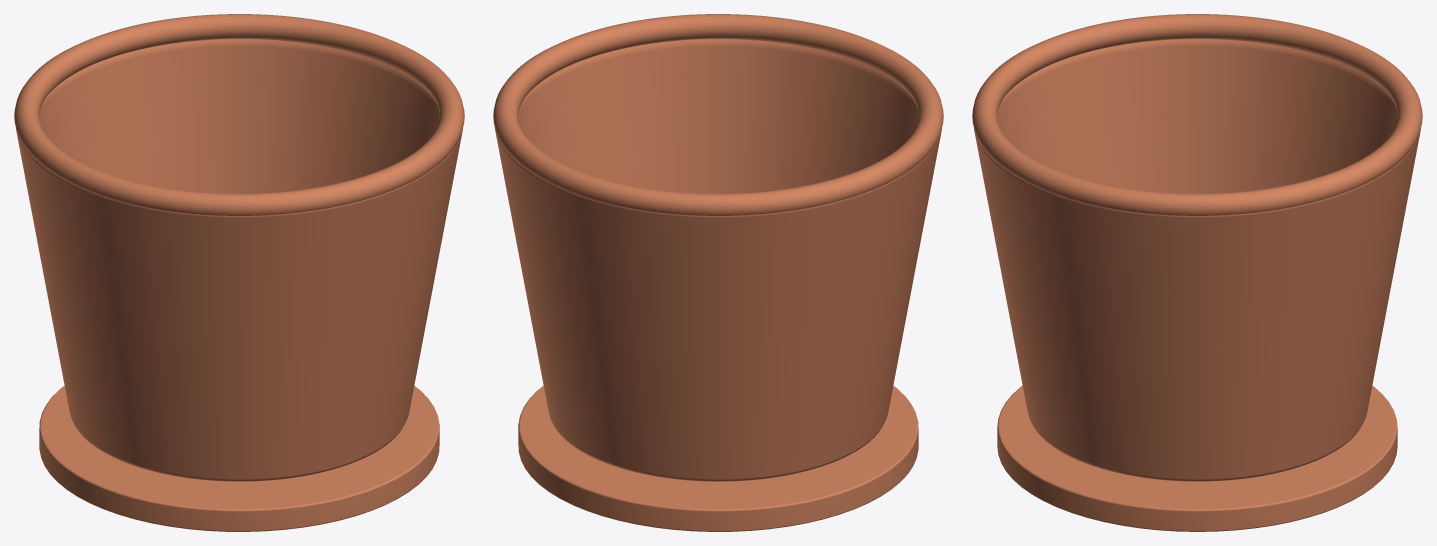
The model's file is empty_pot.glb.
3 views of the same model, side by side, from view 1: azimuth 30°, elevation 25°; view 2: azimuth 150°, elevation 25°; view 3: azimuth 270°, elevation 25° (orthographic).
Parts seen in each view (by area): view 1: SM_Unterteller; view 2: SM_Unterteller; view 3: SM_Unterteller.
Part boxes in pixels (bbox=[...]): SM_Unterteller: bbox=[14, 14, 464, 531]; SM_Unterteller: bbox=[493, 14, 943, 531]; SM_Unterteller: bbox=[972, 14, 1422, 531].
Bounding box in the file's own units: 0.34 × 0.2857 × 0.34.
